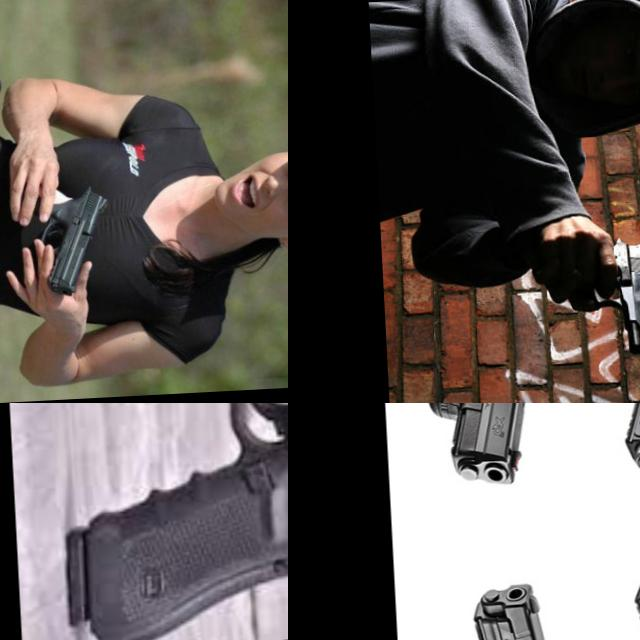handgun: (39, 403, 288, 640), (382, 403, 558, 491), (393, 576, 579, 640), (22, 176, 116, 298), (579, 232, 640, 364), (551, 403, 640, 482)
